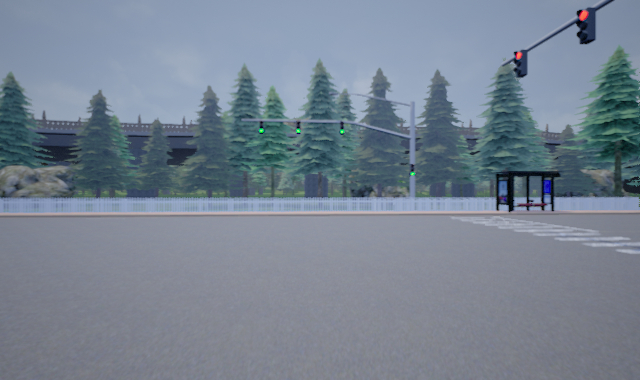traffic_light: (575, 6, 597, 44), (511, 48, 528, 79), (409, 162, 417, 177), (339, 119, 346, 136), (295, 118, 302, 134), (258, 119, 266, 133)
